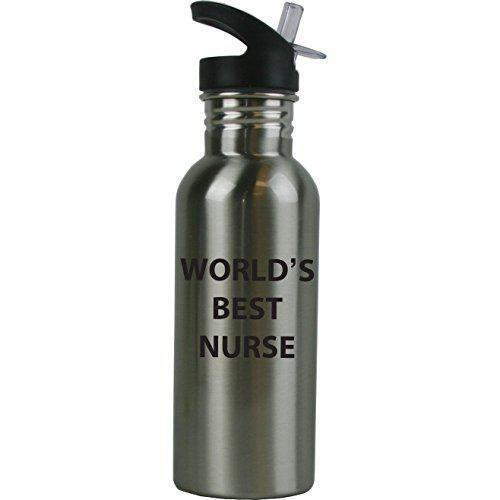gym bottle: (170, 0, 325, 499)
